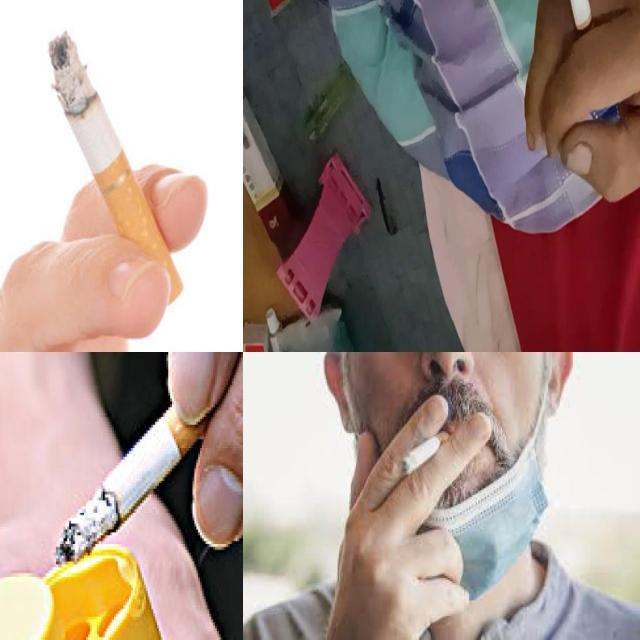smoking: (47, 29, 183, 308), (53, 376, 223, 568), (560, 0, 600, 60), (400, 431, 450, 476)
